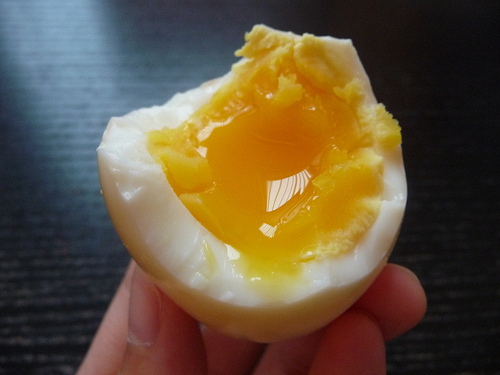egg: (92, 22, 413, 337)
